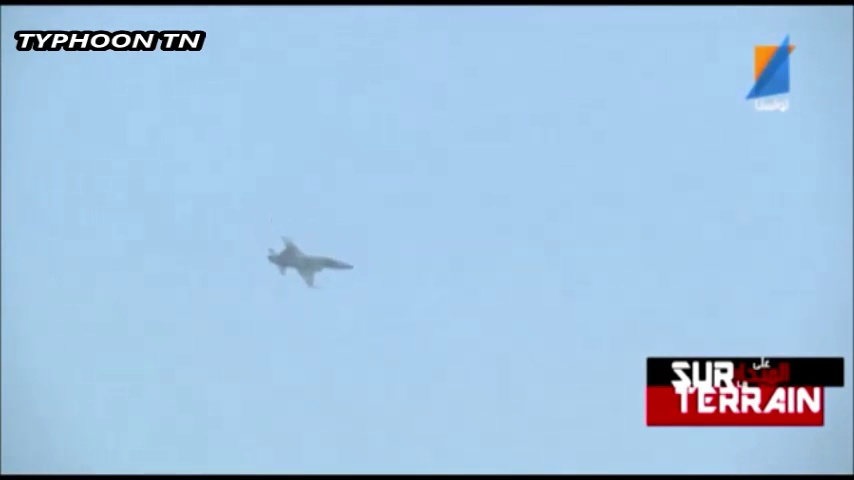Airplane: (265, 234, 355, 284)
